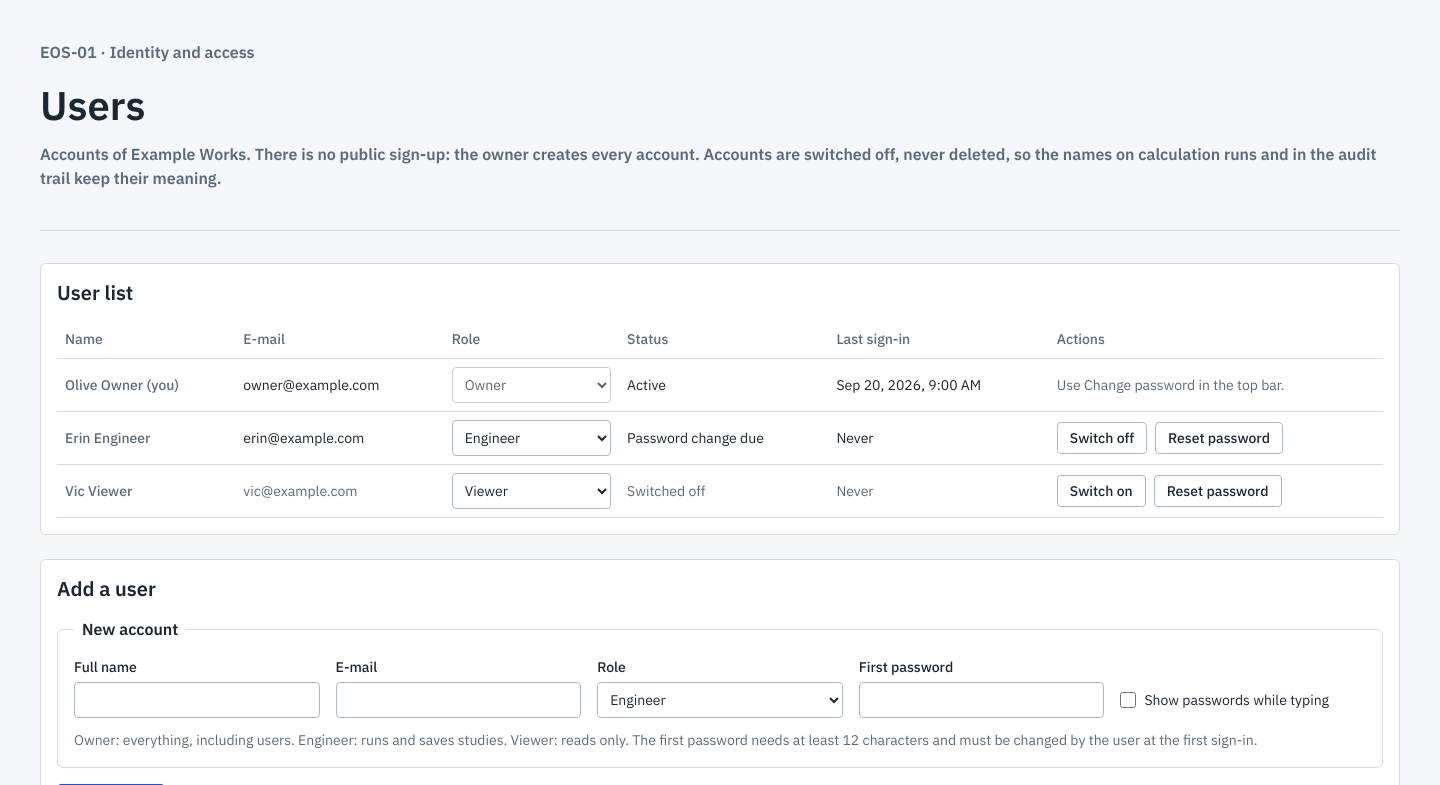
UsersPage › changes a role and reloads the list
The image size is (1440, 785).
Select "Viewer" in the dropdown named "Role of Erin Engineer" at (531, 438), box [452,420,611,456]
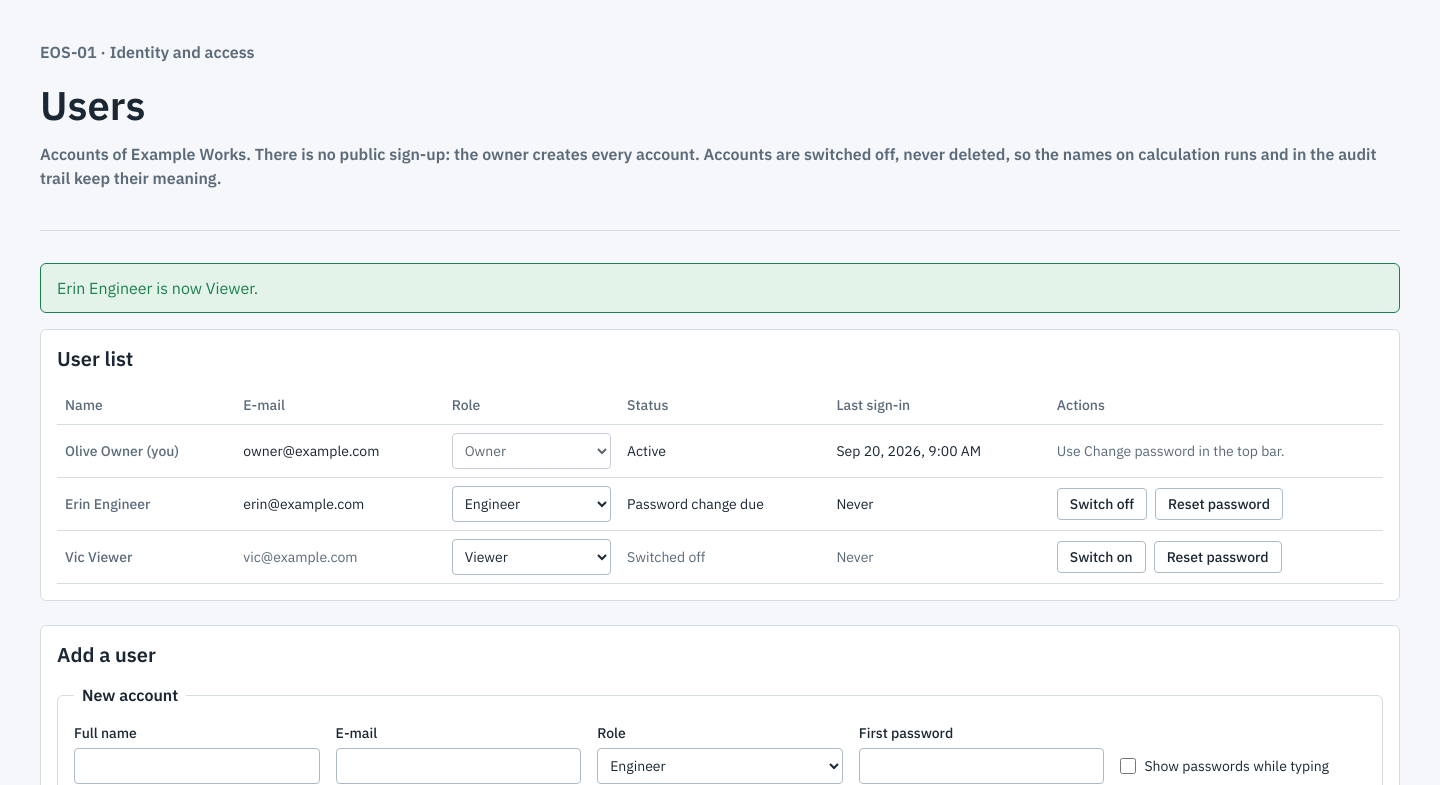
Now the message reads "Erin Engineer is now Viewer.", box [57,278,258,298]
